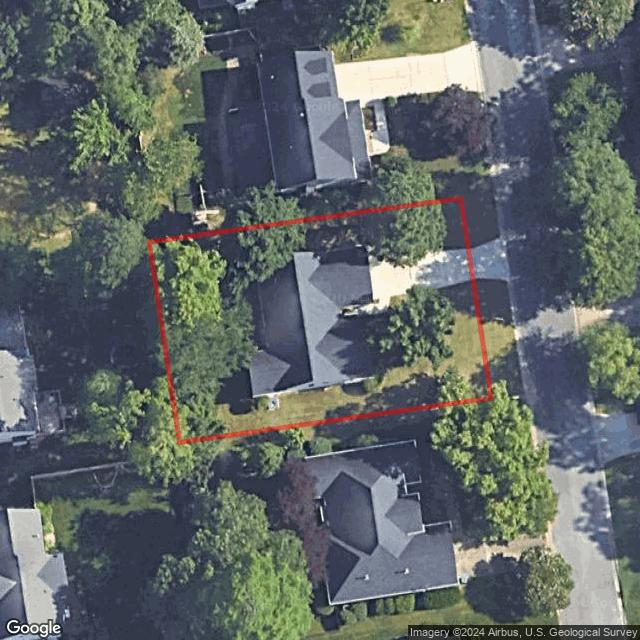Driveway: (367, 249, 474, 301)
Extra-Driveway: (469, 237, 506, 280)
Extra-Lawn: (473, 277, 524, 397), (459, 192, 499, 247)
House: (226, 244, 378, 401)
Lawn: (150, 198, 491, 442)
Other: (257, 395, 283, 415)
Sidewalk: (345, 298, 390, 316)
